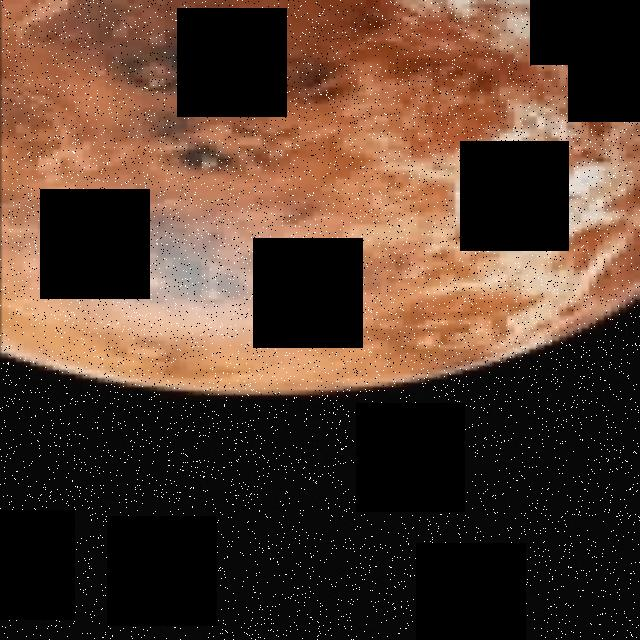Venus: (0, 0, 640, 399)
